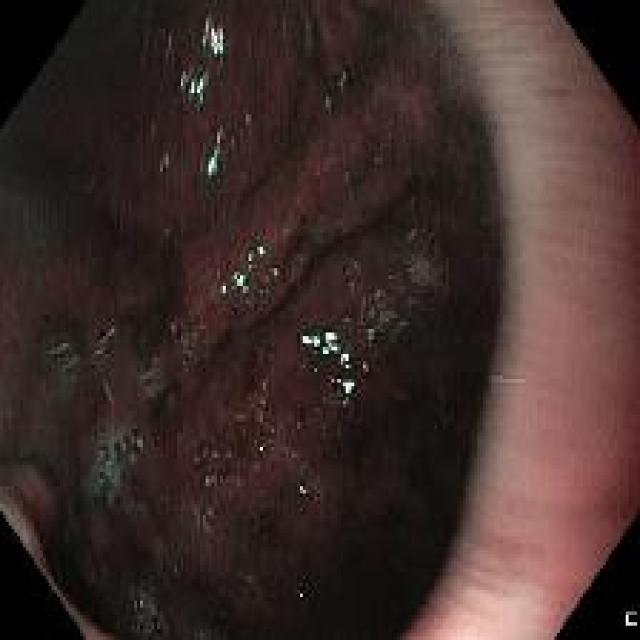blur: (2, 4, 635, 633)
bubbles: (92, 430, 143, 505), (400, 251, 445, 299), (130, 590, 164, 635), (49, 340, 79, 373), (90, 325, 116, 361), (165, 319, 186, 346), (168, 556, 191, 580), (187, 445, 210, 468), (211, 446, 232, 471), (200, 500, 217, 529), (139, 366, 161, 388), (321, 92, 341, 116), (180, 338, 199, 363), (363, 321, 377, 354), (200, 474, 221, 492), (191, 325, 209, 346), (335, 70, 352, 90), (156, 153, 172, 170)
contrast: (6, 15, 206, 603), (386, 75, 490, 551), (209, 506, 417, 631)
specularity: (297, 325, 354, 373), (173, 68, 207, 100), (203, 126, 225, 175), (200, 15, 226, 55), (327, 374, 356, 395), (232, 266, 247, 296), (216, 278, 231, 298), (294, 481, 310, 499), (293, 588, 307, 605), (253, 243, 266, 259), (257, 441, 264, 452)
